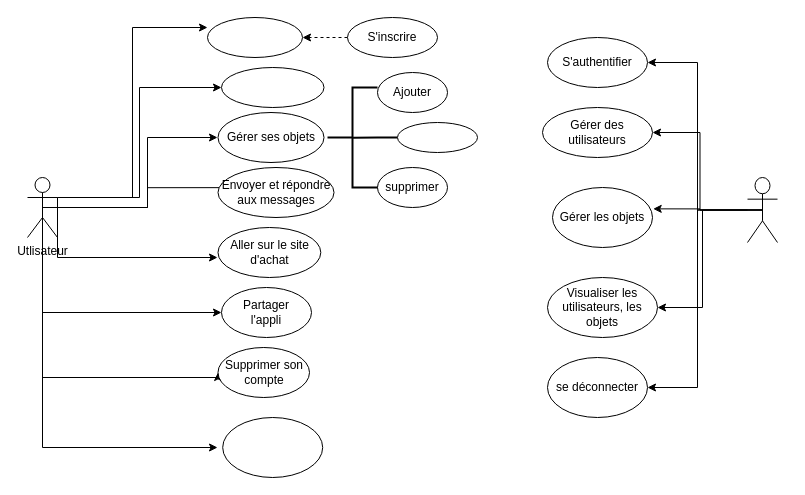
Image size: 805x495. Some labels were removed from this diagram. The centre of each missing label's shape, as x and y in pixels:
"Lire QR Code" belongs at point (272, 87).
"Modifier" belongs at point (437, 137).
"se connecter" belongs at point (254, 37).
"se déconnecter de son compte" belongs at point (272, 447).
"SOPYKO" belongs at point (762, 209).
